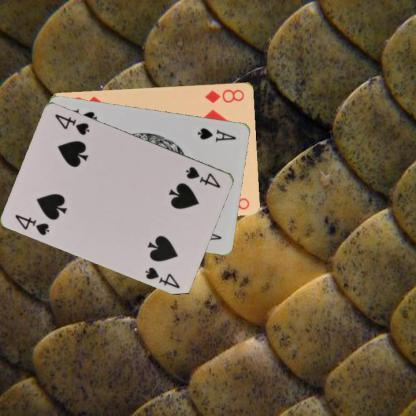4s: (184, 164, 222, 190), (13, 212, 52, 236)
8d: (202, 86, 246, 104)
As: (196, 125, 238, 143)
